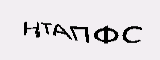А: (52, 23, 72, 40)
П: (70, 25, 90, 44)
С: (121, 25, 145, 44)
Т: (40, 20, 53, 36)
Ф: (92, 25, 119, 45)
Ң: (22, 21, 40, 40)
